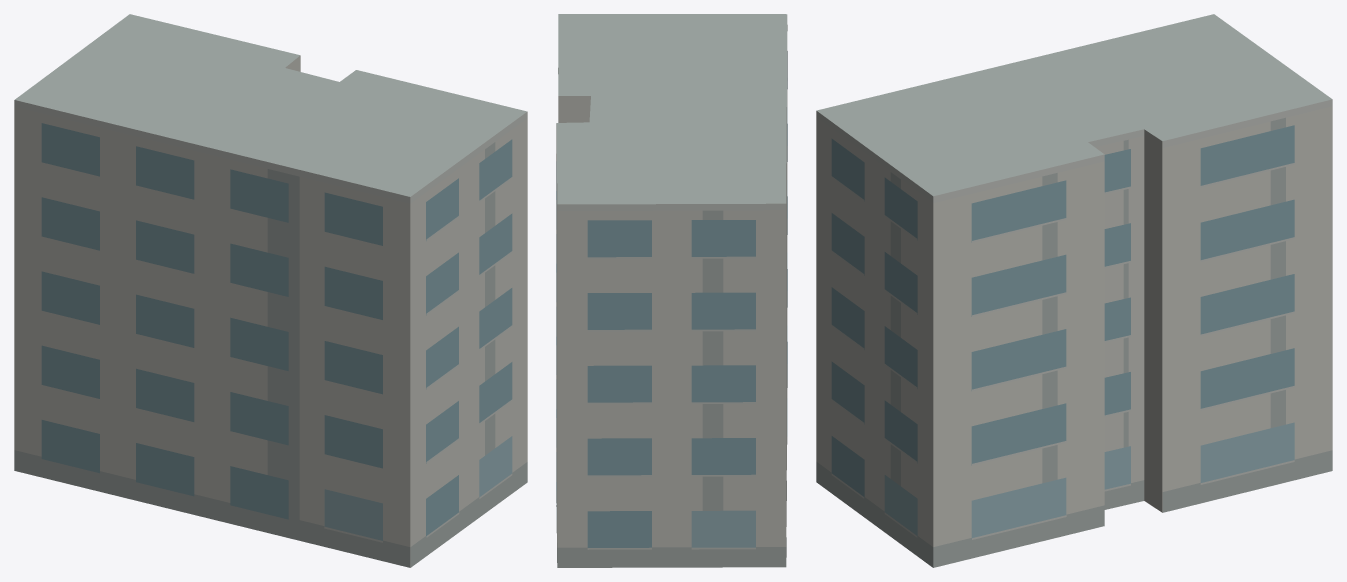
Rendered from survey-upis-32528231.glb.
3 views of the same model, side by side, from view 1: azimuth 30°, elevation 25°; view 2: azimuth 150°, elevation 25°; view 3: azimuth 270°, elevation 25° (orthographic). The views are drawn at different scales.
Visible parts, largest first — view 1: survey-upis-32528231.tmp; view 2: survey-upis-32528231.tmp; view 3: survey-upis-32528231.tmp.
Boxes of the visible parts, bbox=[...] form: survey-upis-32528231.tmp: bbox=[14, 14, 527, 567]; survey-upis-32528231.tmp: bbox=[556, 14, 787, 567]; survey-upis-32528231.tmp: bbox=[816, 14, 1332, 567].
Bounding box in the file's own units: 13.95 × 13.25 × 16.69.
